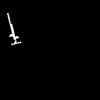double_crochet: (8, 15, 20, 44)
